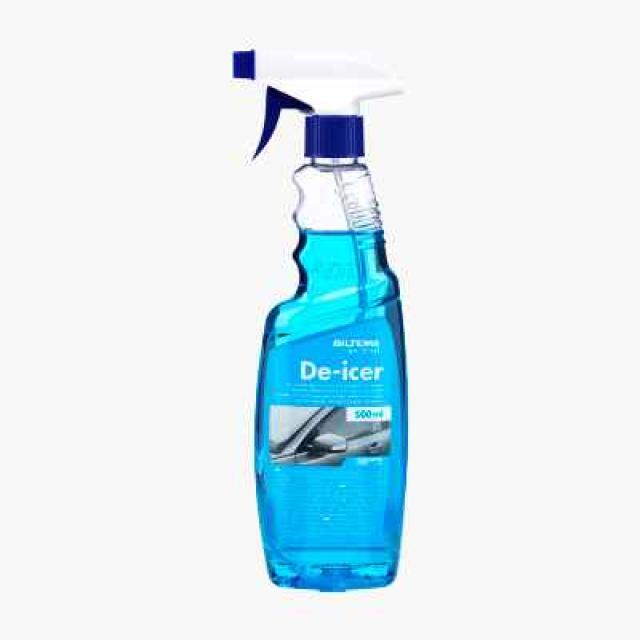winwinshield_washer: (228, 43, 418, 600)
